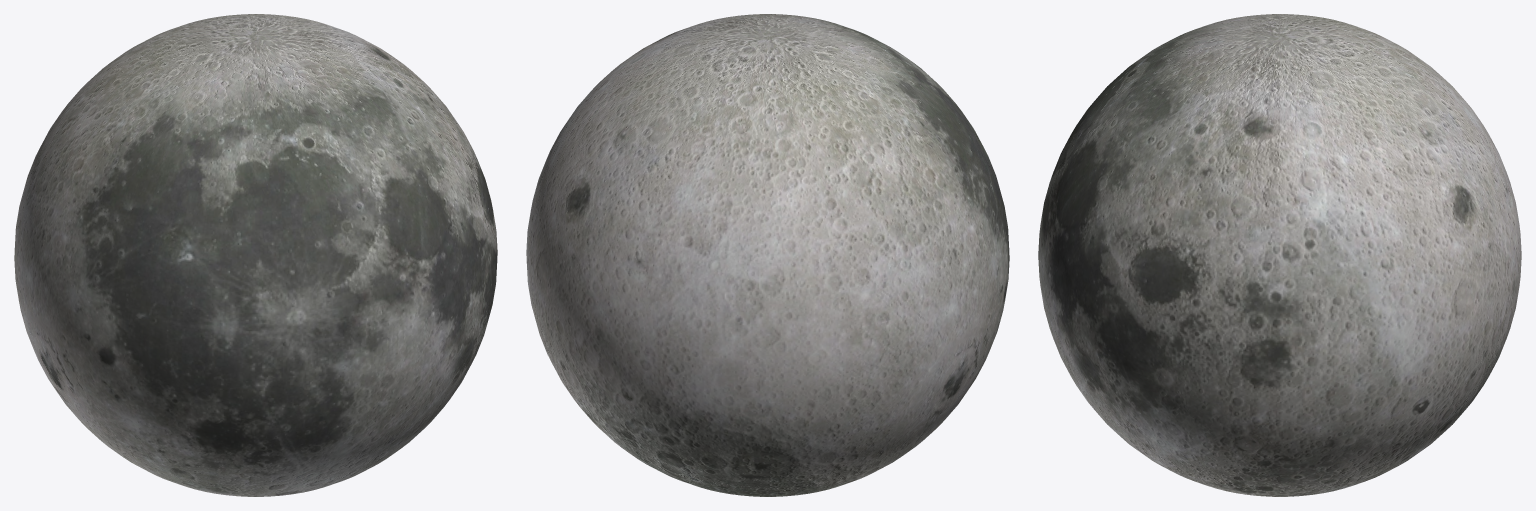
Rendered from moon.glb.
The picture shows the model from 3 angles, left to right: view 1: azimuth 30°, elevation 25°; view 2: azimuth 150°, elevation 25°; view 3: azimuth 270°, elevation 25°; orthographic projection.
Parts seen in each view (by area): view 1: Object_7; view 2: Object_7; view 3: Object_7.
Part boxes in pixels (x1=…): Object_7: x1=14, y1=14, x2=497, y2=496; Object_7: x1=526, y1=14, x2=1009, y2=496; Object_7: x1=1038, y1=14, x2=1521, y2=496.
Bounding box in the file's own units: 2 × 2 × 2.
Materials: 1 (1 with a texture image).
